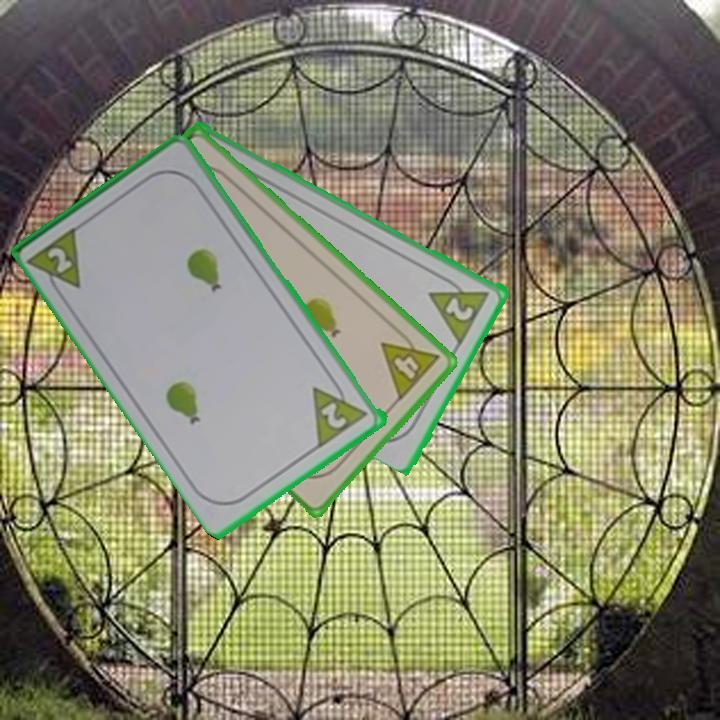2p: (425, 270, 494, 346), (317, 398, 351, 432), (44, 243, 76, 277)
4p: (377, 323, 442, 404)
